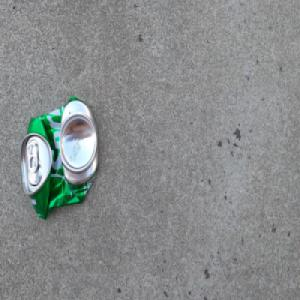SodaCan: (19, 96, 99, 223)
